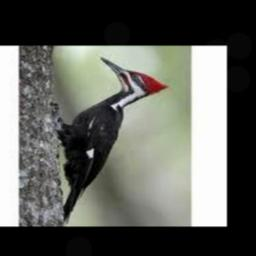Woodpecker: (56, 57, 169, 223)
